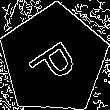P_NE: (24, 30, 84, 89)
